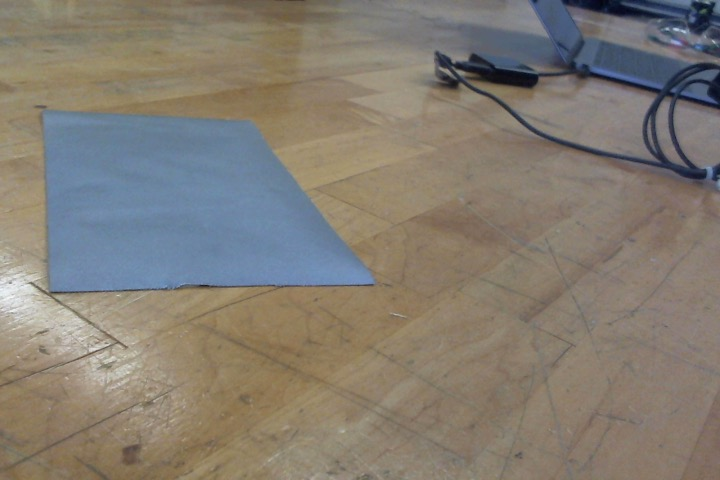Tape: (39, 106, 375, 293)
